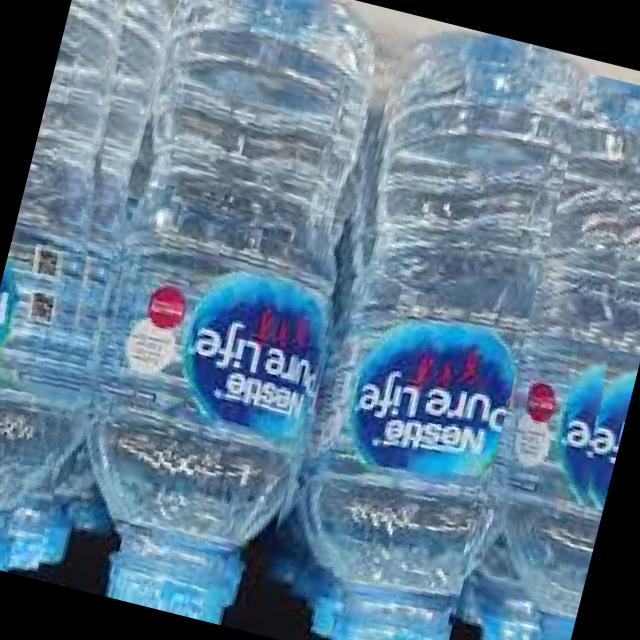plastic bottle: (246, 28, 621, 640), (30, 0, 374, 627), (440, 72, 640, 640), (0, 0, 184, 578)
